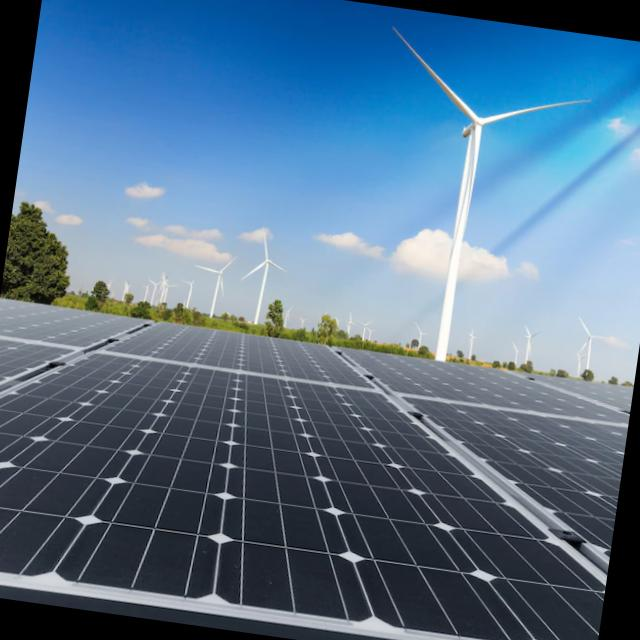no faulty: (0, 299, 631, 640)
